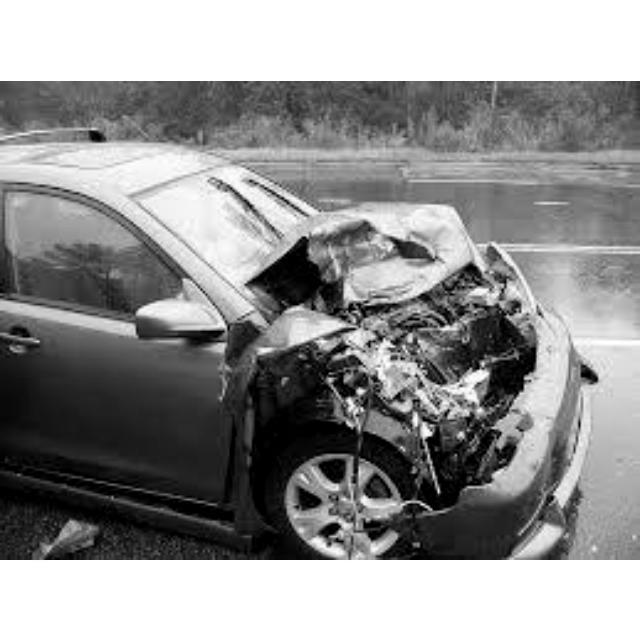bonnet-dent: (283, 190, 470, 325)
fender-dent: (260, 335, 420, 500)
